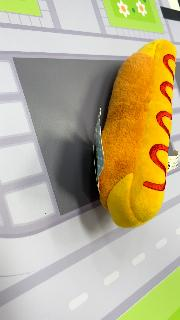hotdog: (95, 38, 177, 230)
